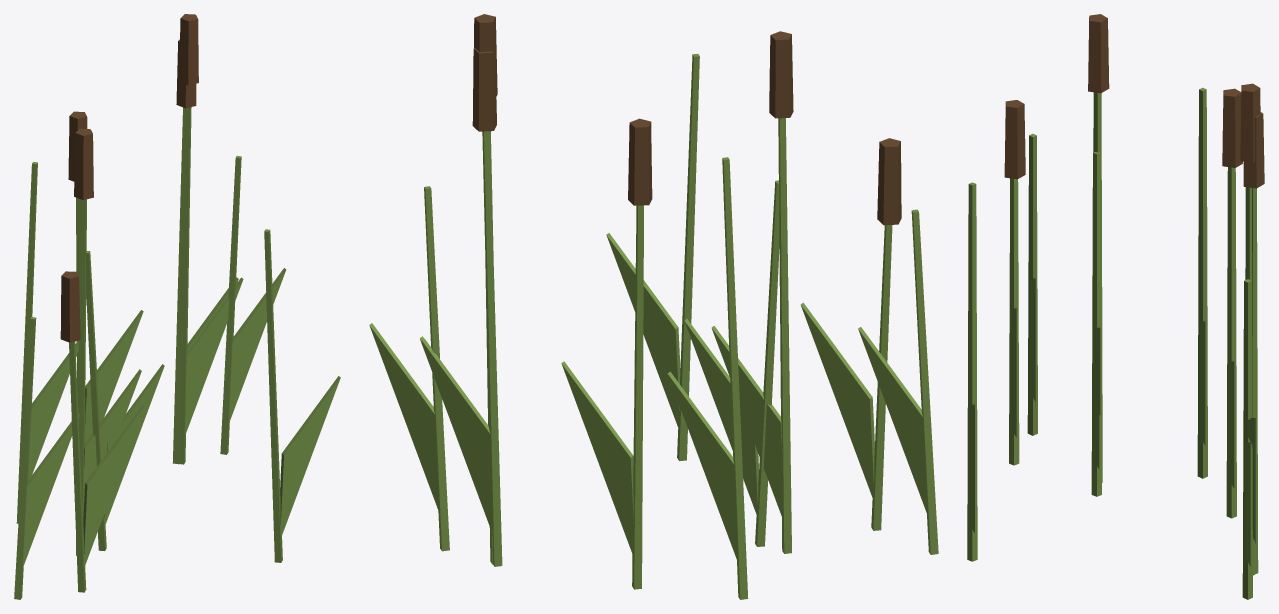
The model's file is cover_reeds.glb.
3 renders of one model, left to right at view 1: azimuth 30°, elevation 25°; view 2: azimuth 150°, elevation 25°; view 3: azimuth 270°, elevation 25°, orthographic. The views are drawn at different scales.
Parts seen in each view (by area): view 1: scatter_reeds; view 2: scatter_reeds; view 3: scatter_reeds.
Boxes of the visible parts, x1,y1,x2,y2 form: scatter_reeds: (14, 14, 340, 599); scatter_reeds: (369, 14, 938, 599); scatter_reeds: (967, 14, 1264, 599).
Bounding box in the file's own units: 1.82 × 2.09 × 1.15.
